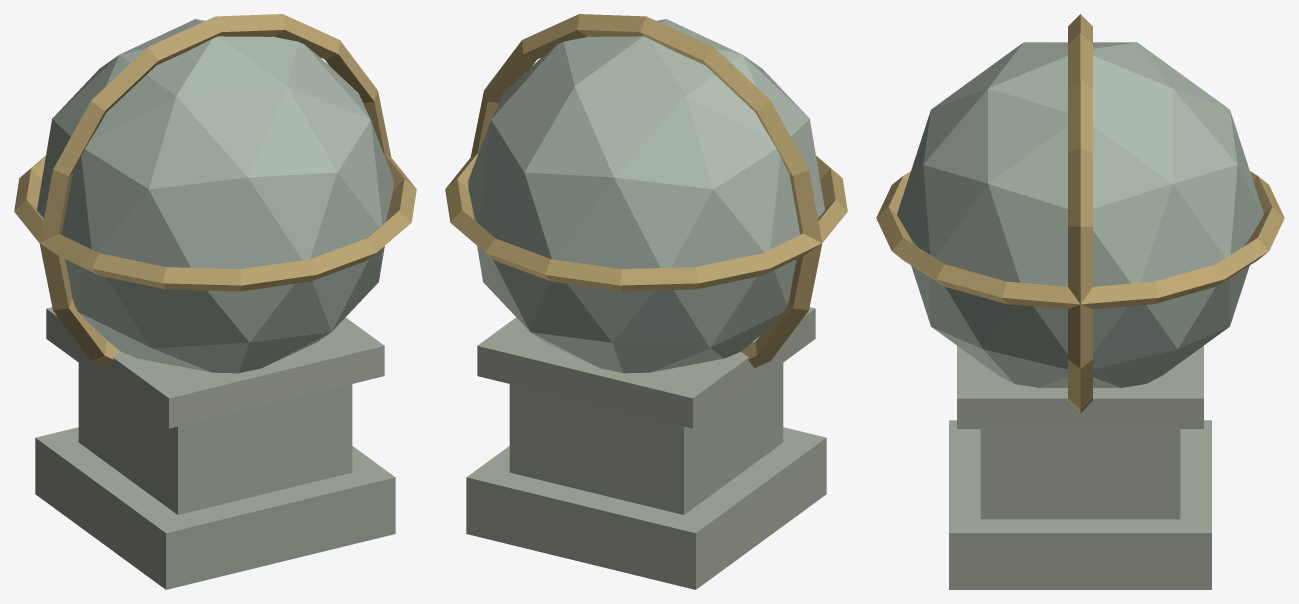
File: map-exclusive-v3__champion_06.glb
3 renders of one model, left to right at view 1: azimuth 30°, elevation 25°; view 2: azimuth 150°, elevation 25°; view 3: azimuth 270°, elevation 25°, orthographic.
Visible parts, largest first — view 1: champion_06; view 2: champion_06; view 3: champion_06.
Boxes of the visible parts, left/top/right/bottom form: champion_06: left=14, top=14, right=416, bottom=589; champion_06: left=445, top=14, right=847, bottom=589; champion_06: left=876, top=14, right=1284, bottom=589.
Bounding box in the file's own units: 1.15 × 1.55 × 1.15.
